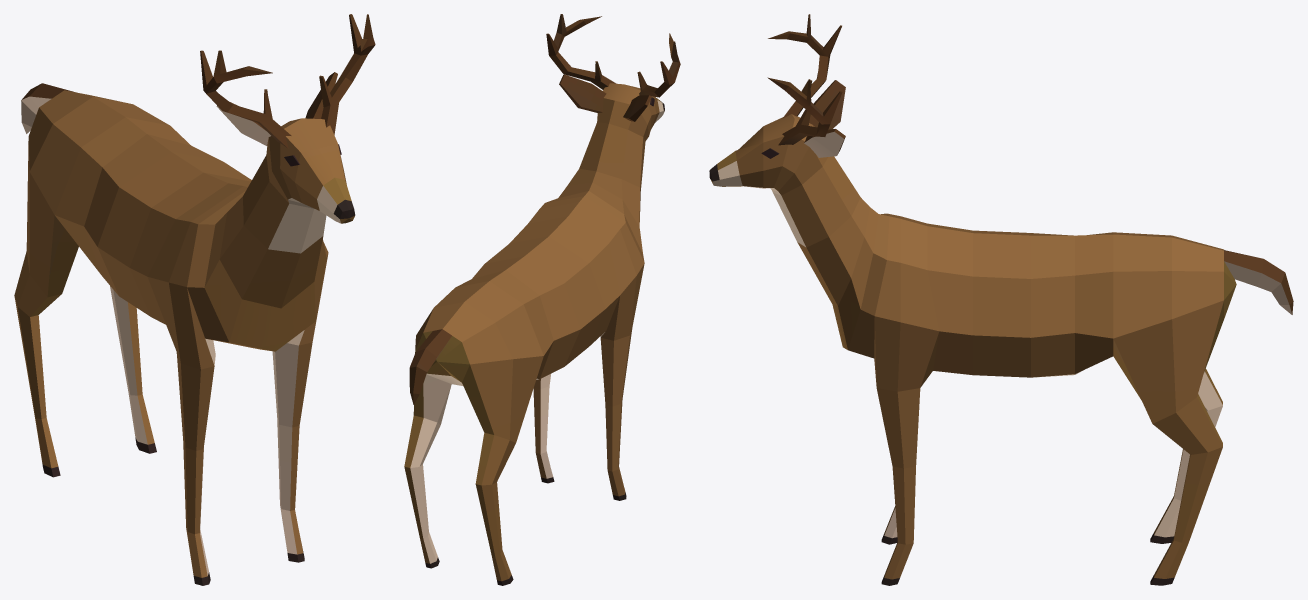
The model's file is animals-deer-062.glb.
3 views of the same model, side by side, from view 1: azimuth 30°, elevation 25°; view 2: azimuth 150°, elevation 25°; view 3: azimuth 270°, elevation 25° (orthographic). The views are drawn at different scales.
Visible parts, largest first — view 1: Geo_Deer; view 2: Geo_Deer; view 3: Geo_Deer.
Boxes of the visible parts, <box> form: Geo_Deer: <box>14,14,375,585</box>; Geo_Deer: <box>404,14,680,585</box>; Geo_Deer: <box>709,14,1293,585</box>.
Bounding box in the file's own units: 40.26 × 135 × 139.
1 material, 1 textured.
